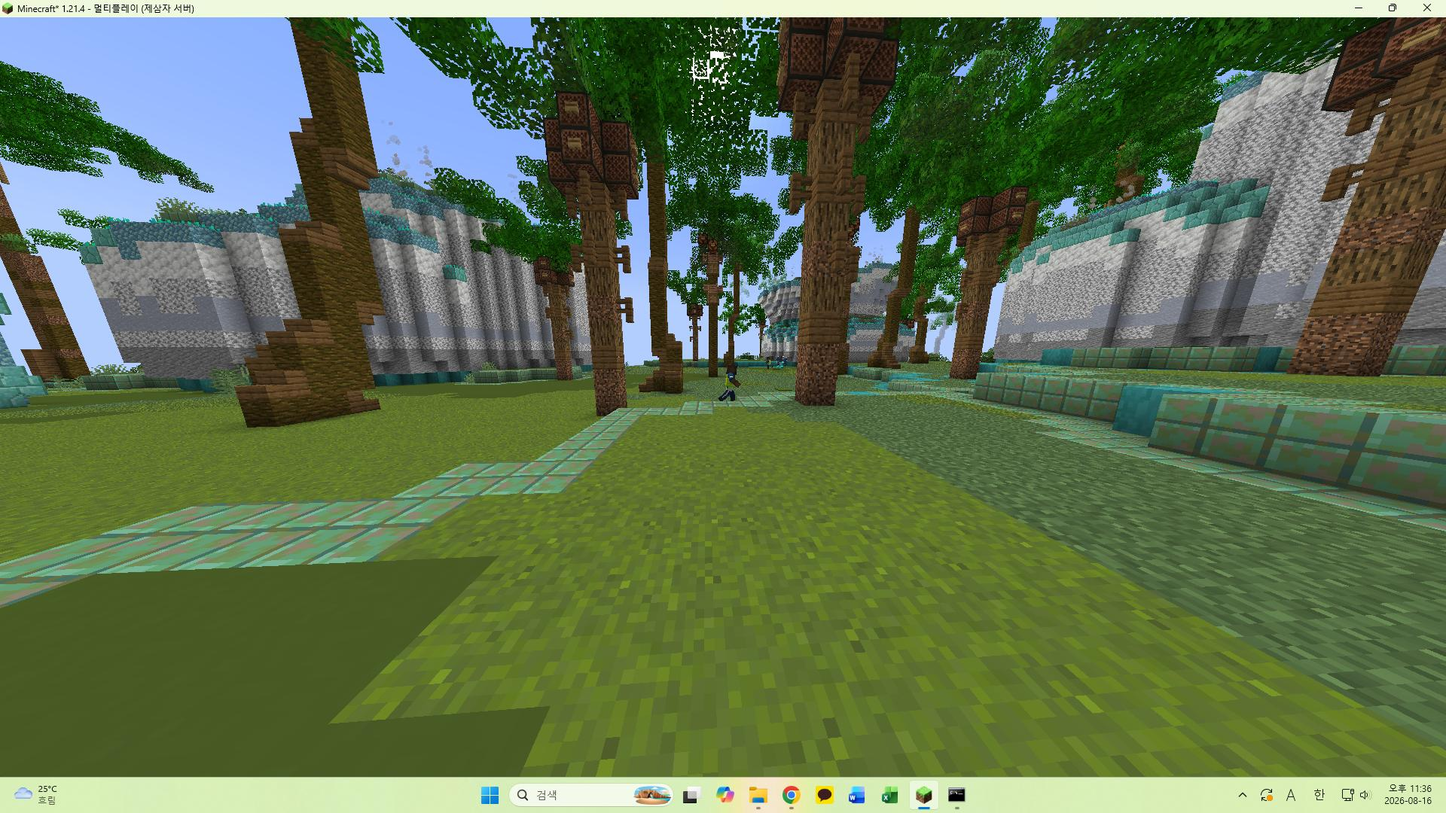Guardian: (716, 356, 740, 400)
